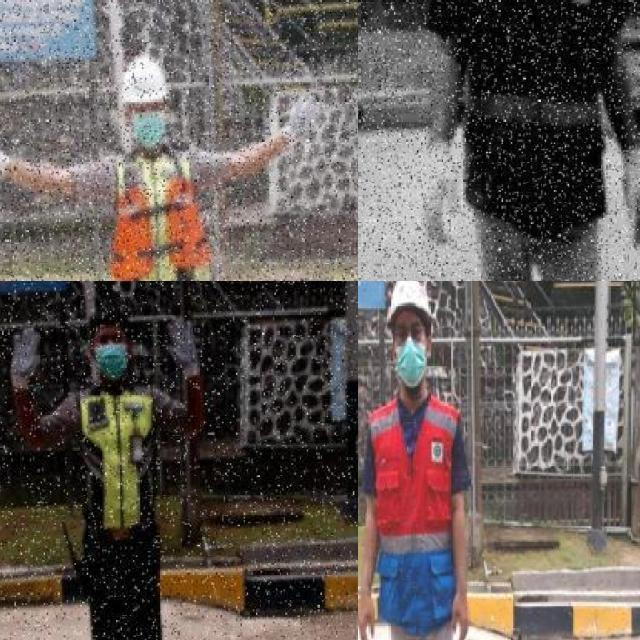apron: (420, 136, 462, 247), (280, 90, 325, 155), (613, 144, 640, 245), (166, 312, 201, 380), (8, 324, 42, 392), (0, 124, 13, 183)
